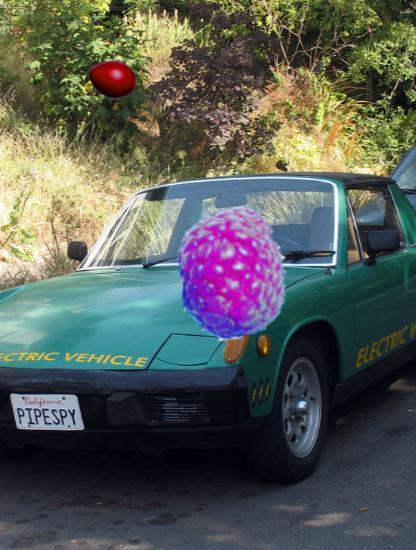Raspberry: (166, 206, 301, 341)
Tamarillo: (89, 53, 143, 107)
